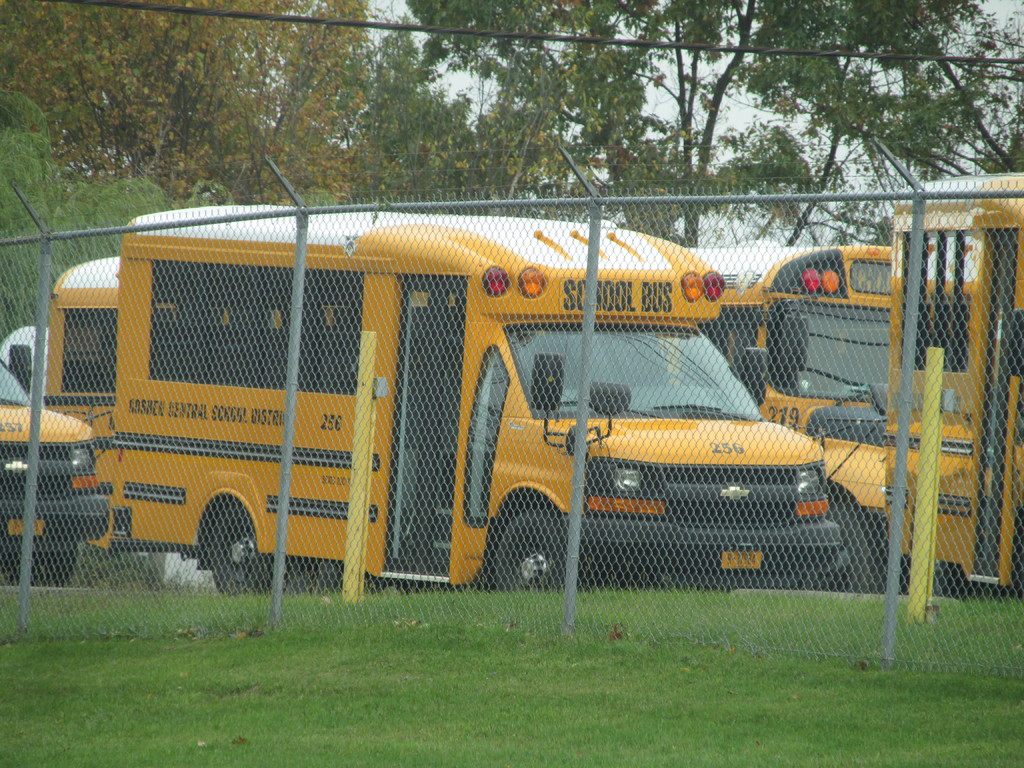Bus: (44, 243, 892, 592), (111, 204, 844, 590), (890, 174, 1023, 587), (0, 362, 108, 584)
